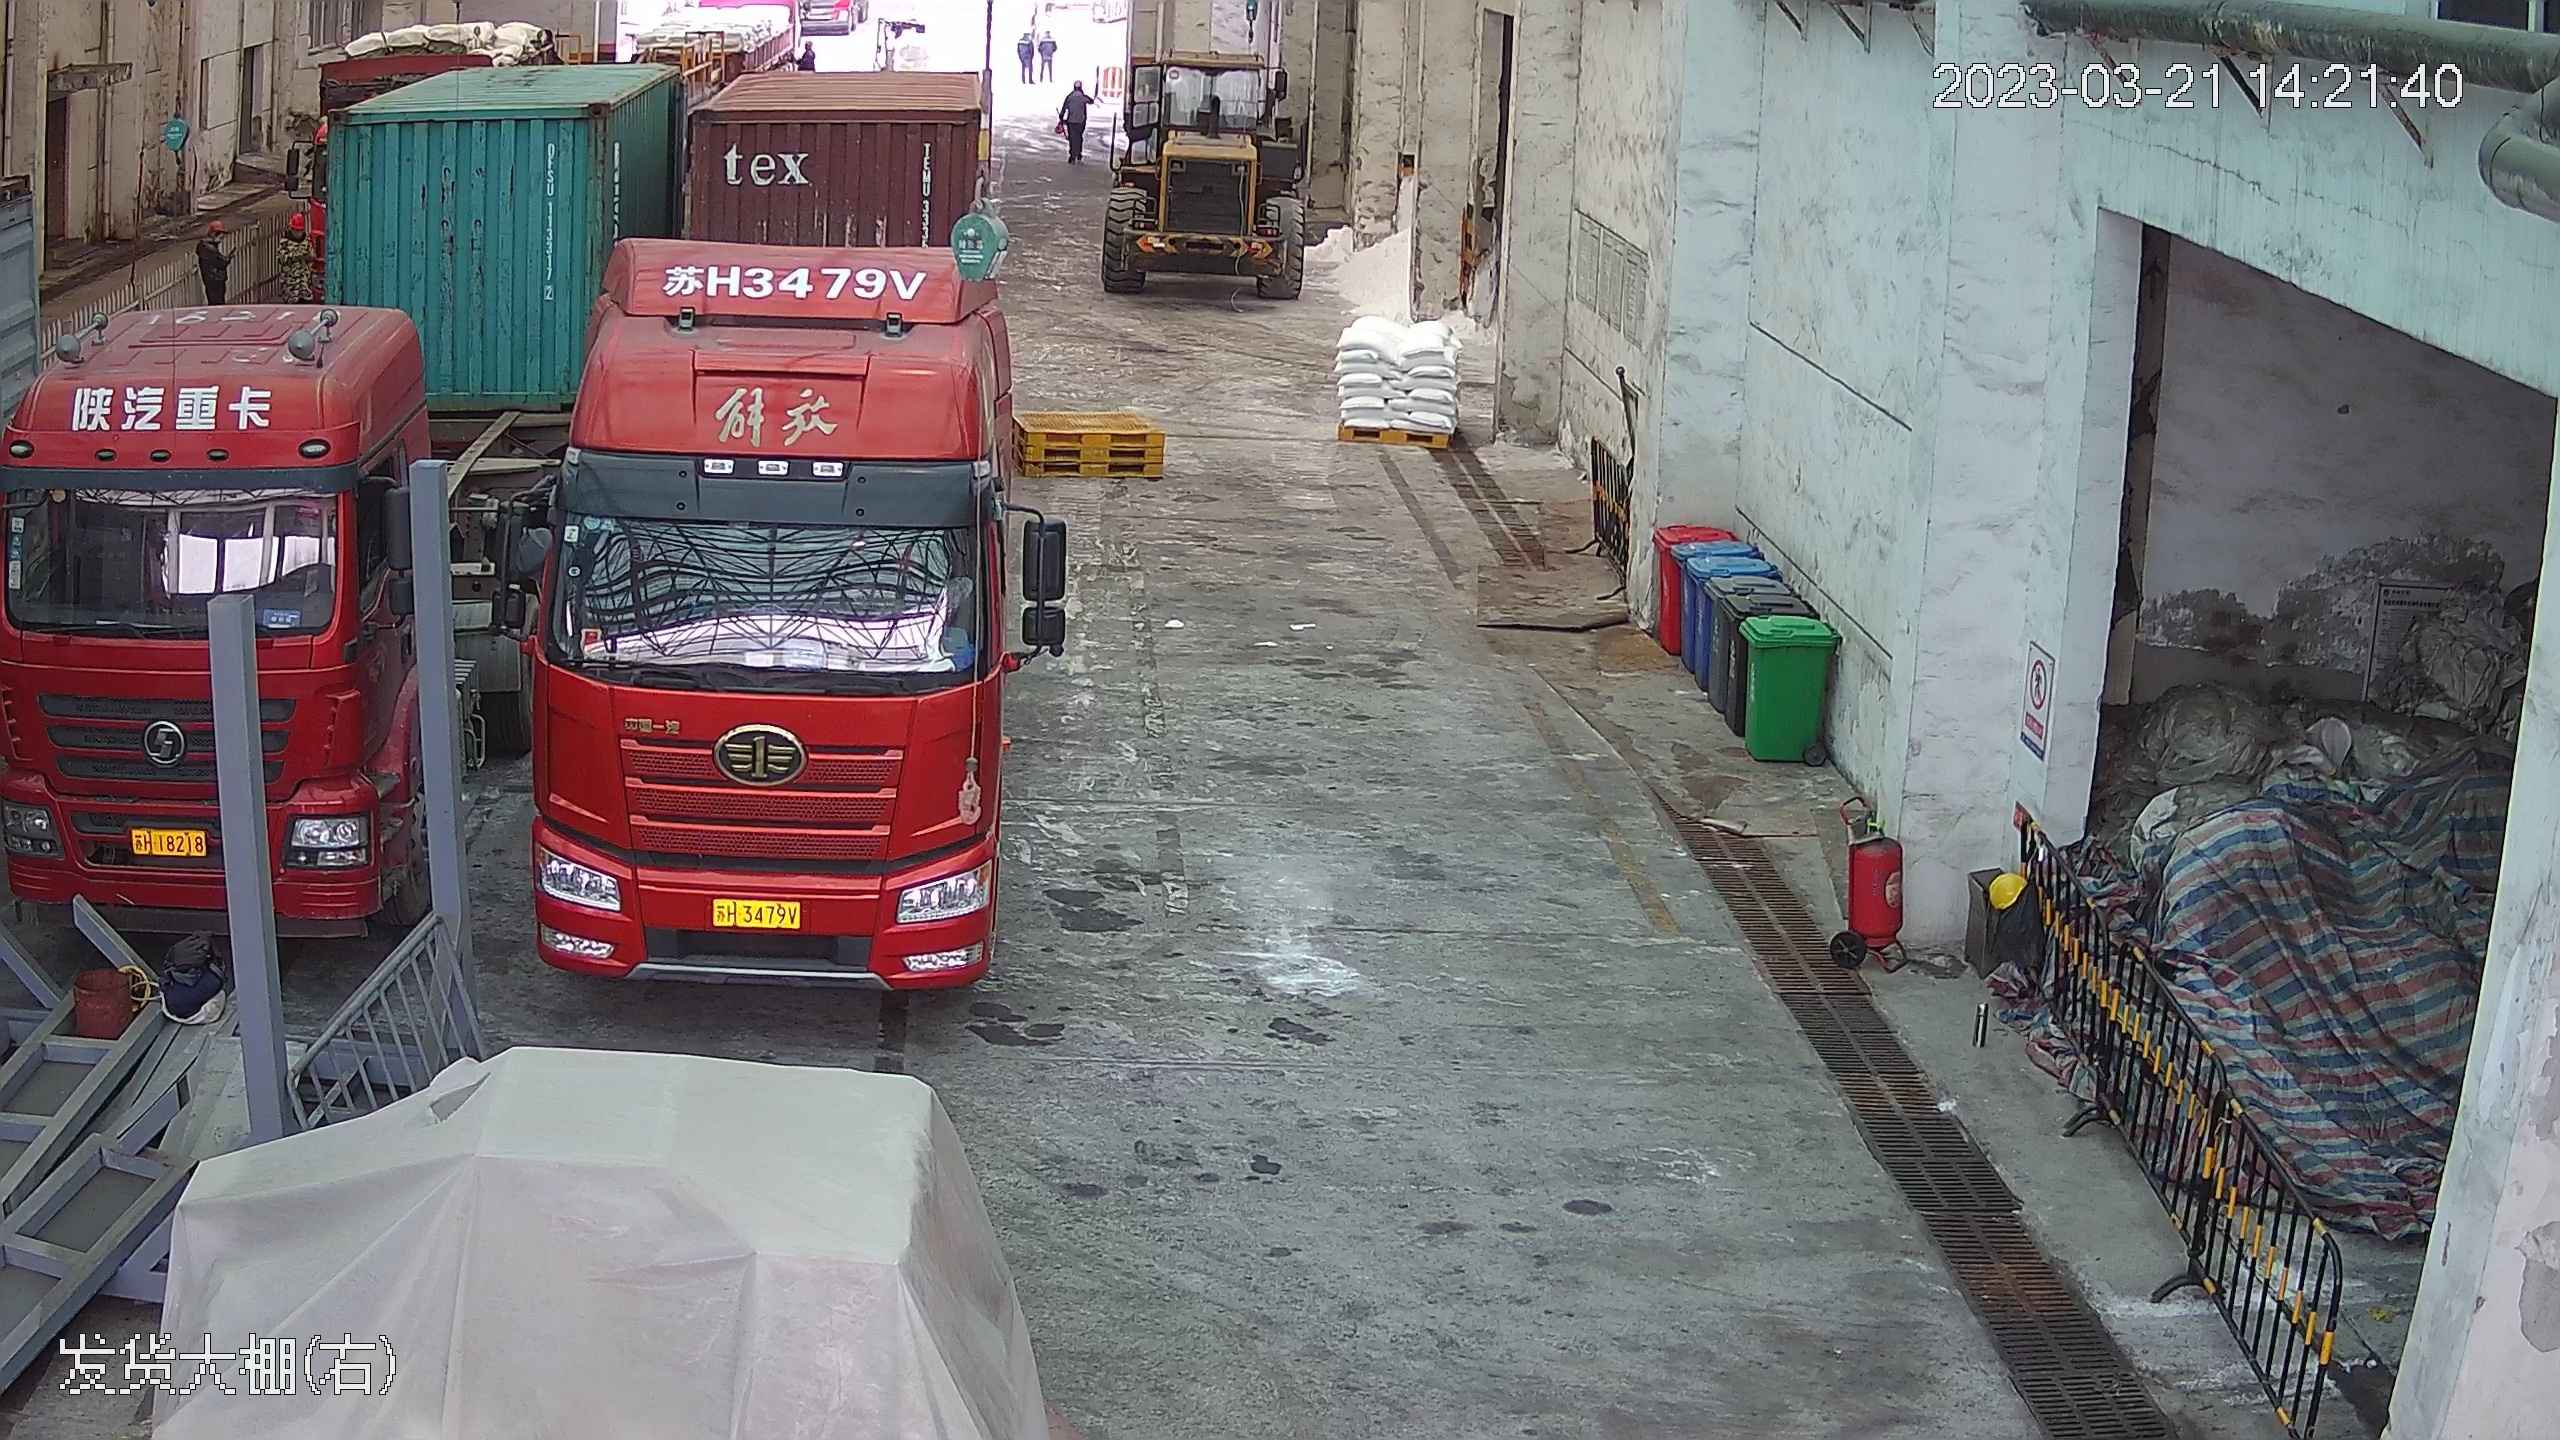head: (278, 213, 317, 263), (196, 221, 228, 264), (1063, 70, 1089, 104)
helmet: (1986, 866, 2027, 912), (288, 213, 307, 232), (207, 219, 226, 234), (1073, 79, 1082, 89)
people: (273, 210, 320, 301), (193, 216, 236, 308), (1058, 76, 1091, 162), (1016, 31, 1038, 87), (1037, 29, 1057, 81)
truck: (505, 27, 1044, 994), (4, 62, 457, 953)
